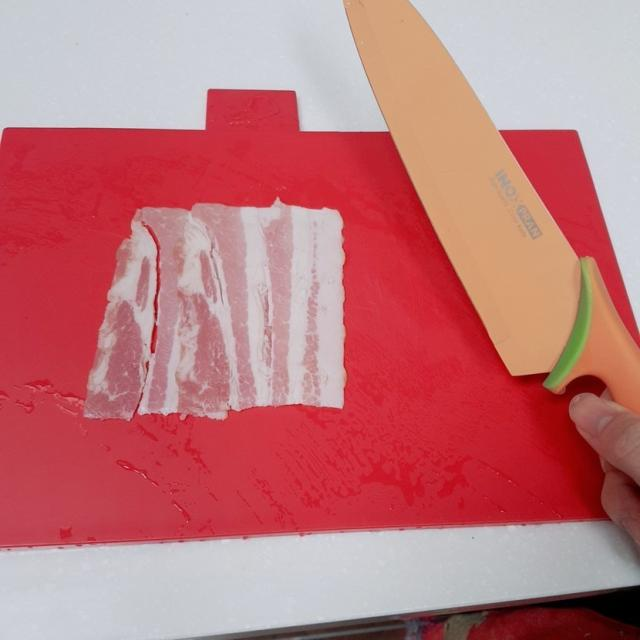Bacon Slice: (83, 200, 346, 420)
